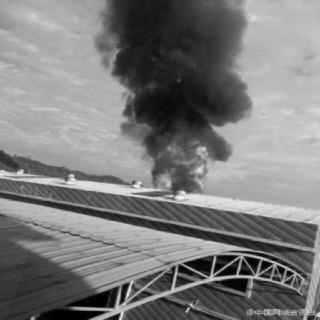Smoke: (100, 0, 246, 144)
